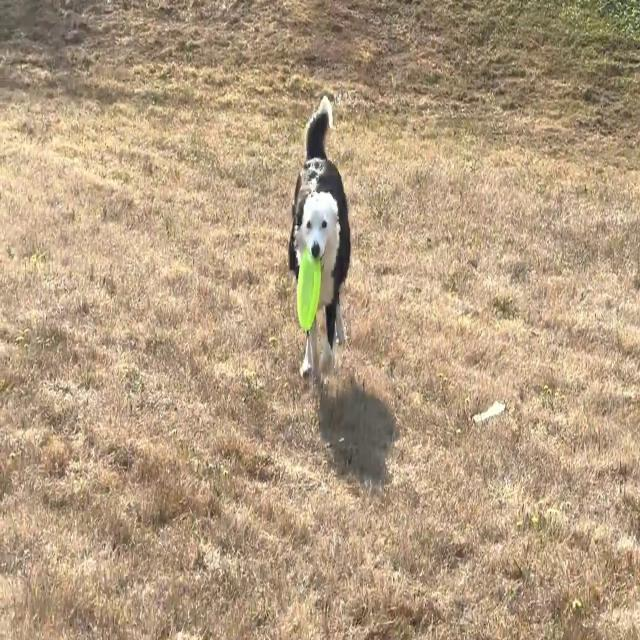Dog: (287, 95, 352, 381)
